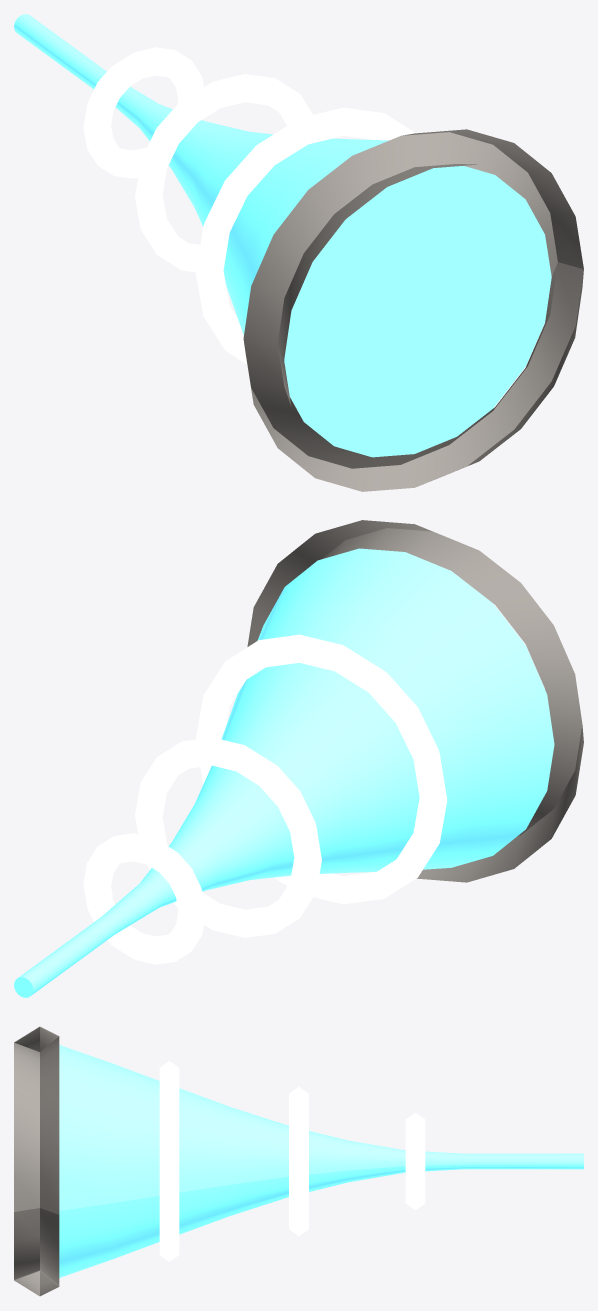
File: vfx-mesh-library-thruster-cone-a2af2dfc.glb
3 renders of one model, top to bottom at view 1: azimuth 30°, elevation 25°; view 2: azimuth 150°, elevation 25°; view 3: azimuth 270°, elevation 25°, orthographic. The views are drawn at different scales.
Parts seen in each view (by area): view 1: thruster-cone; view 2: thruster-cone; view 3: thruster-cone.
Boxes of the visible parts, bbox=[...] form: thruster-cone: bbox=[14, 14, 583, 491]; thruster-cone: bbox=[14, 520, 583, 997]; thruster-cone: bbox=[14, 1026, 583, 1296].
Size of the model in its own units: 0.42 by 0.42 by 0.88.
